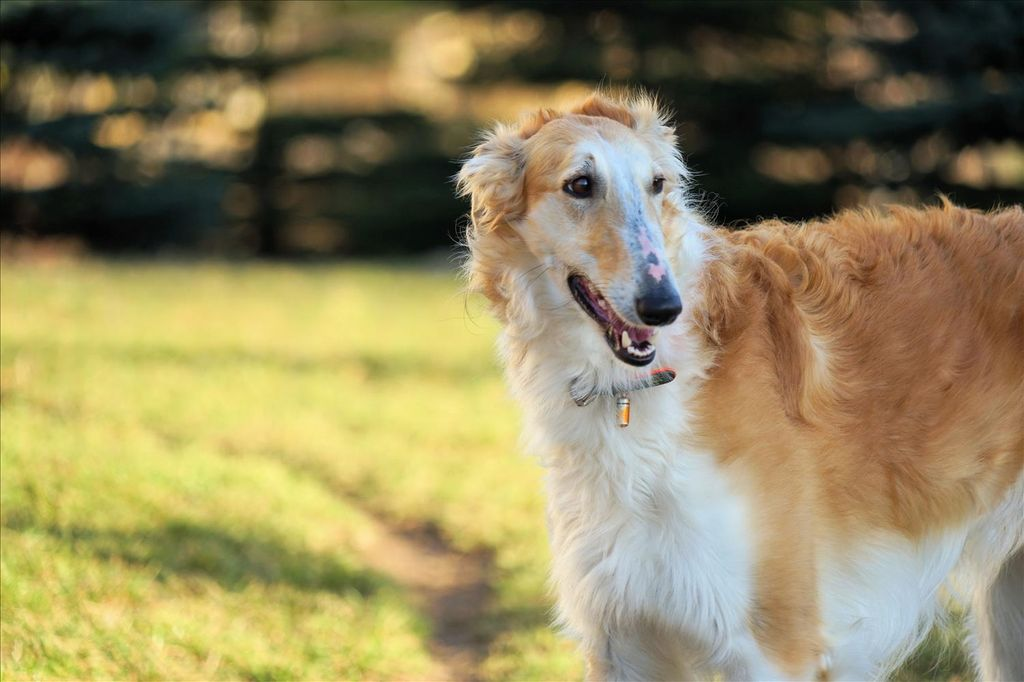borzoi: (443, 97, 1024, 682)
